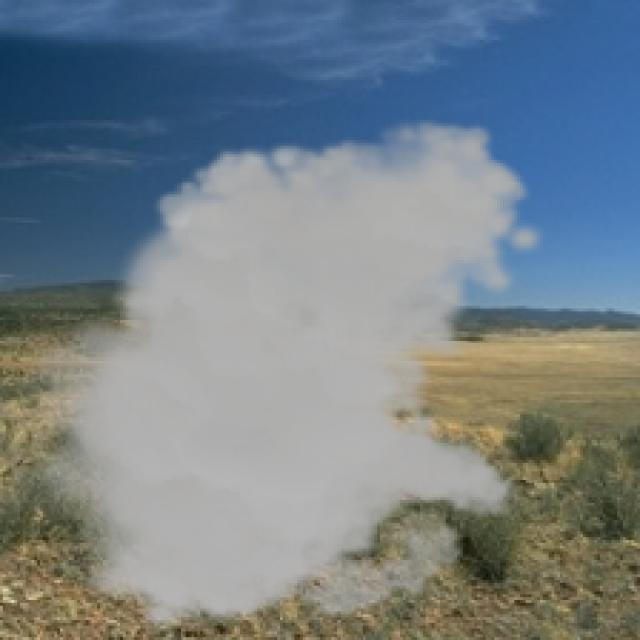Smoke: (17, 117, 549, 634)
